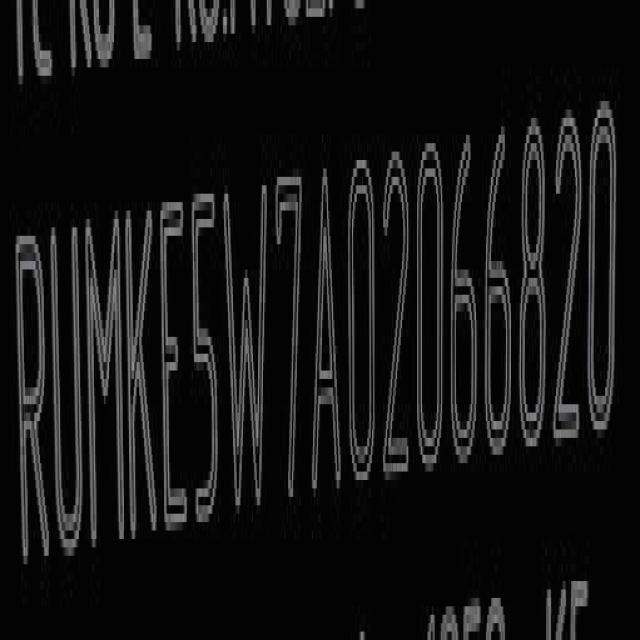0: (587, 94, 619, 436), (348, 157, 376, 490), (417, 136, 443, 478)
2: (553, 107, 581, 452), (387, 150, 413, 486)
5: (192, 178, 219, 533)
6: (484, 127, 513, 464), (451, 134, 480, 467)
7: (280, 161, 308, 515)
8: (515, 119, 549, 446)
A: (312, 156, 342, 498)
E: (162, 194, 186, 550)
K: (126, 206, 162, 549)
M: (86, 212, 126, 549)
R: (18, 227, 48, 579)
U: (50, 218, 82, 571)
W: (227, 175, 263, 530)
